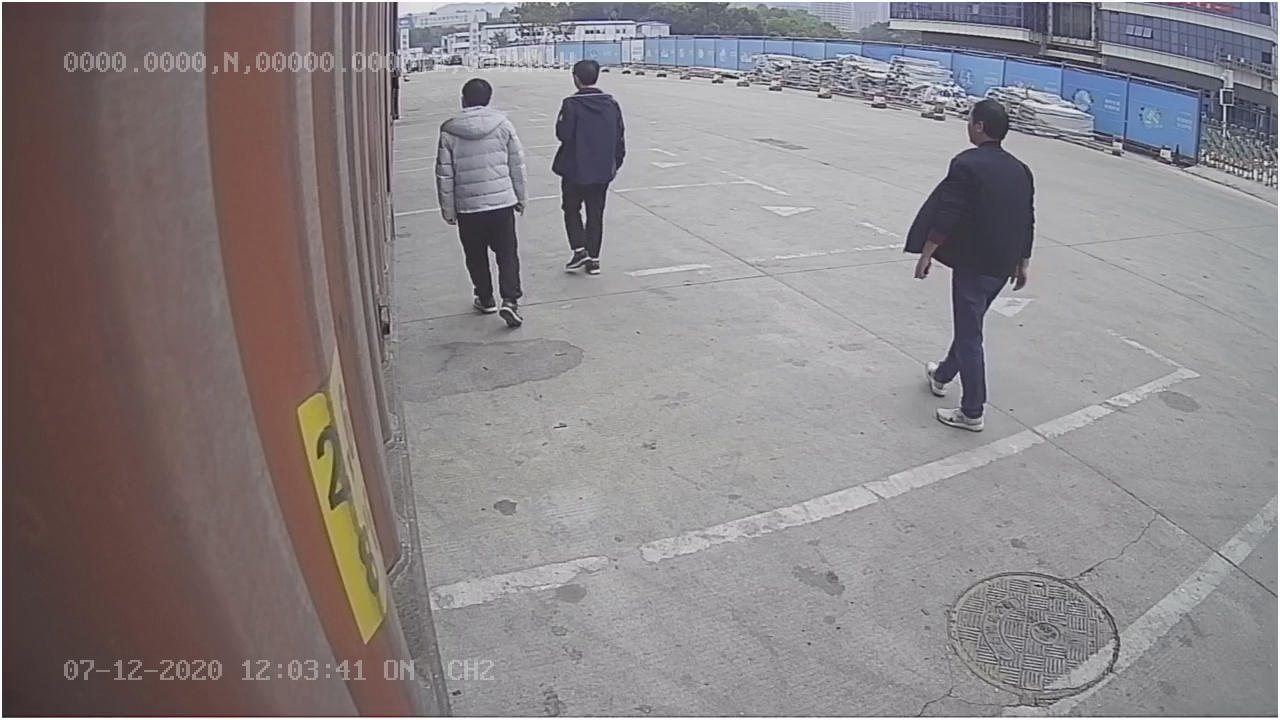person: (911, 81, 1041, 441), (423, 68, 534, 338), (549, 56, 636, 298)
